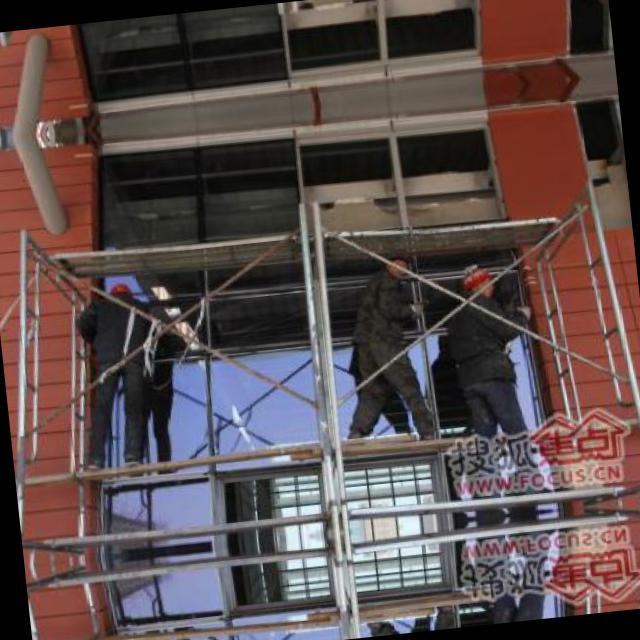helmet: (457, 258, 496, 300), (106, 278, 134, 304)
